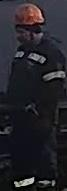helmet: (11, 2, 45, 31)
vest: (6, 37, 66, 119)
